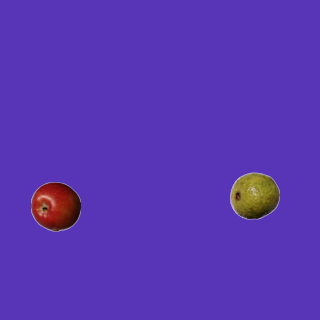Apple Braeburn: (30, 181, 80, 231)
Guava: (229, 170, 279, 220)
